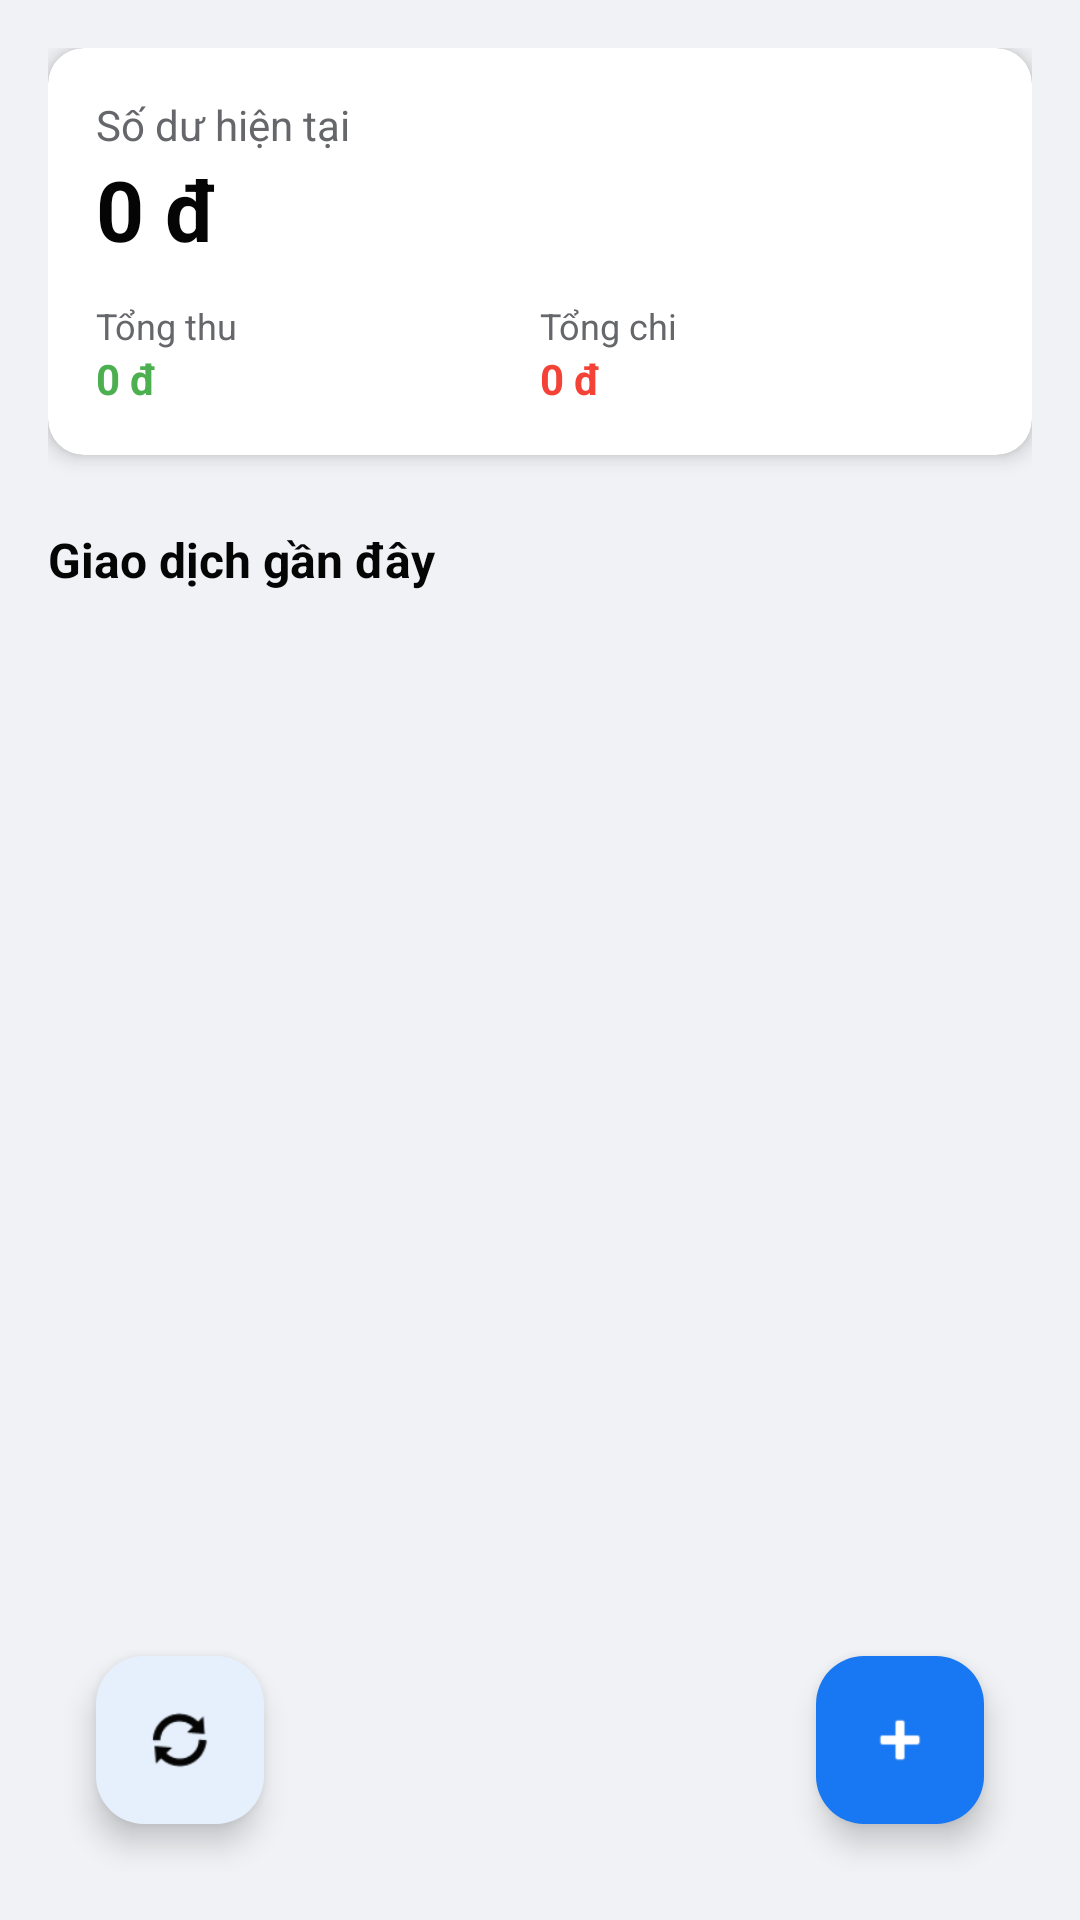

Screen size 1080x1920. Icon name, then its center in pixels as point (x, y):
Load giao dịch: point (180, 1740)
Thêm giao dịch: point (900, 1740)
